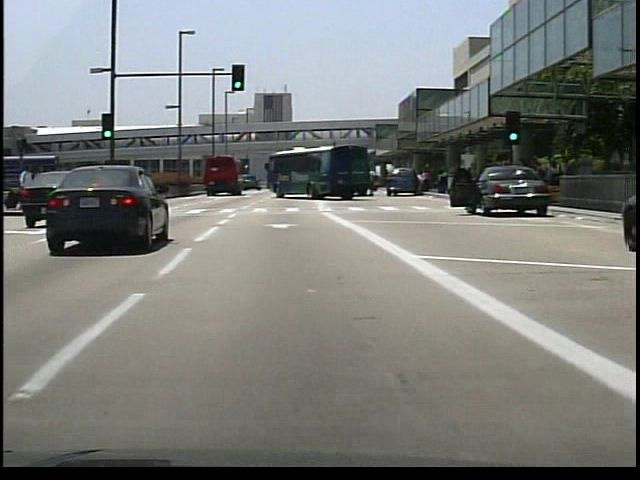person: (413, 168, 425, 195)
